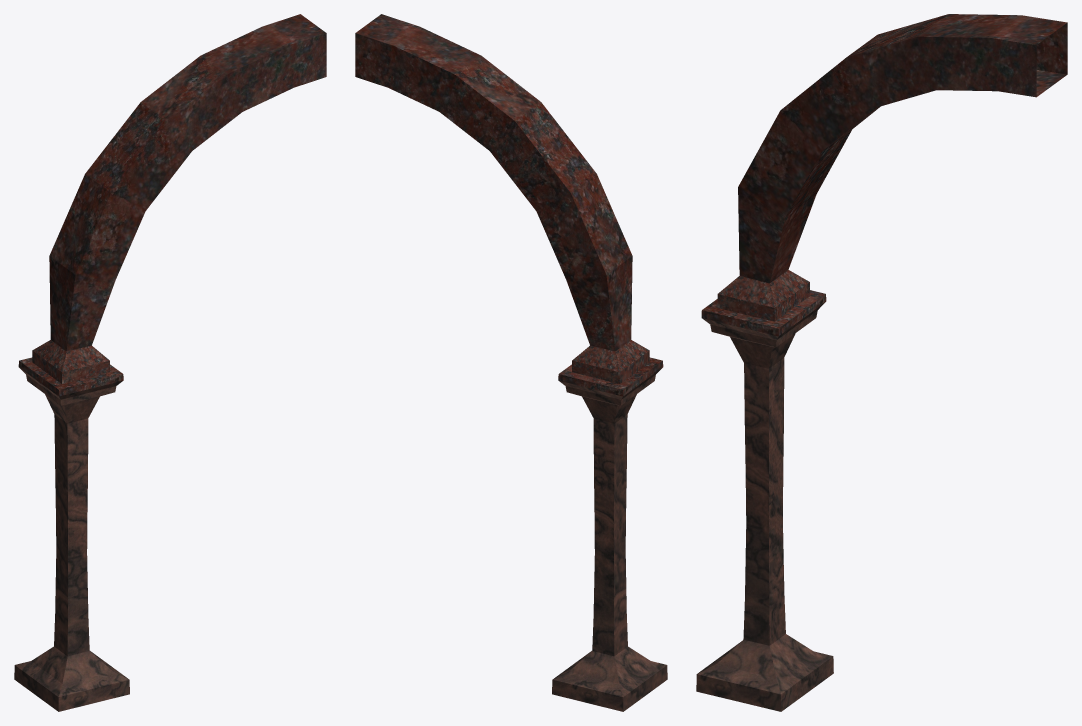
File: Archway.glb
3 renders of one model, left to right at view 1: azimuth 30°, elevation 25°; view 2: azimuth 150°, elevation 25°; view 3: azimuth 330°, elevation 25°, orthographic. The views are drawn at different scales.
Visible parts, largest first — view 1: Archway; view 2: Archway; view 3: Archway.
Boxes of the visible parts, left/top/right/bottom form: Archway: left=14, top=14, right=326, bottom=711; Archway: left=355, top=14, right=667, bottom=711; Archway: left=696, top=14, right=1067, bottom=711.
Size of the model in its own units: 1.05 by 2.19 by 0.2913.
2 materials, 2 textured.
